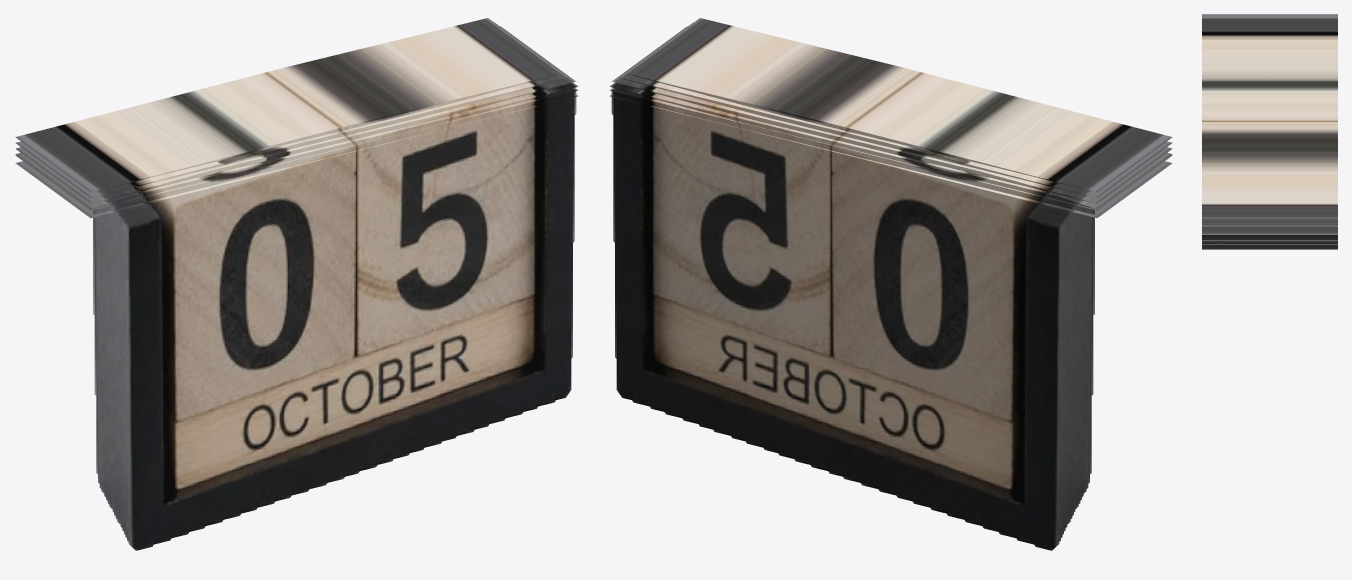
The picture shows the model from 3 angles, left to right: view 1: azimuth 30°, elevation 25°; view 2: azimuth 150°, elevation 25°; view 3: azimuth 270°, elevation 25°; orthographic projection. The views are drawn at different scales.
Visible parts, largest first — view 1: CX-11; view 2: CX-11; view 3: CX-11.
Boxes of the visible parts, x1=… form: CX-11: x1=15, y1=18, x2=578, y2=550; CX-11: x1=609, y1=18, x2=1172, y2=550; CX-11: x1=1202, y1=14, x2=1337, y2=249.
Size of the model in its own units: 15 by 11.04 by 4.
1 material, 1 textured.
